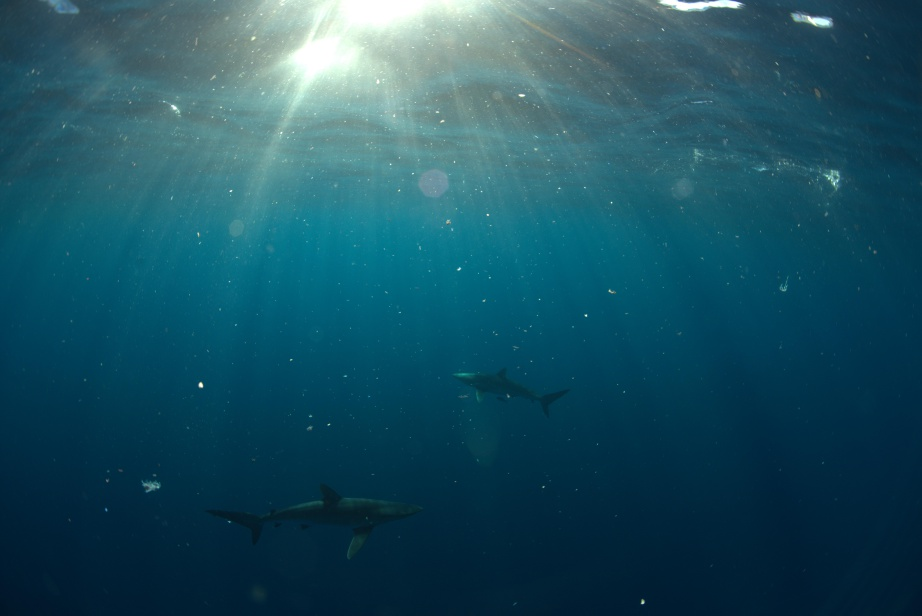Sedoso: (202, 465, 441, 568)
